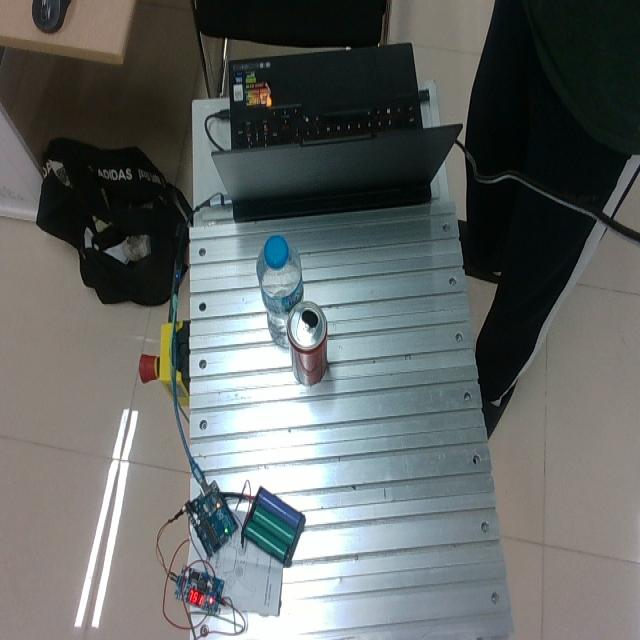coca: (286, 299, 328, 385)
lavie: (256, 235, 304, 348)
